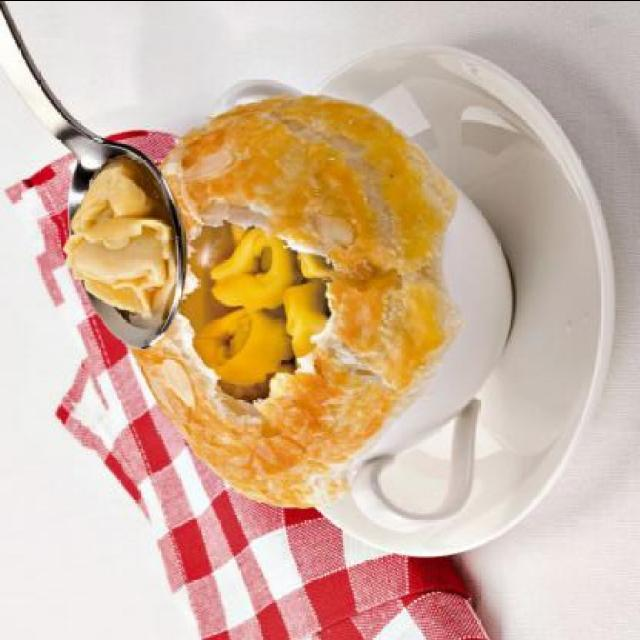Tortellini in broth: (189, 232, 331, 382)
